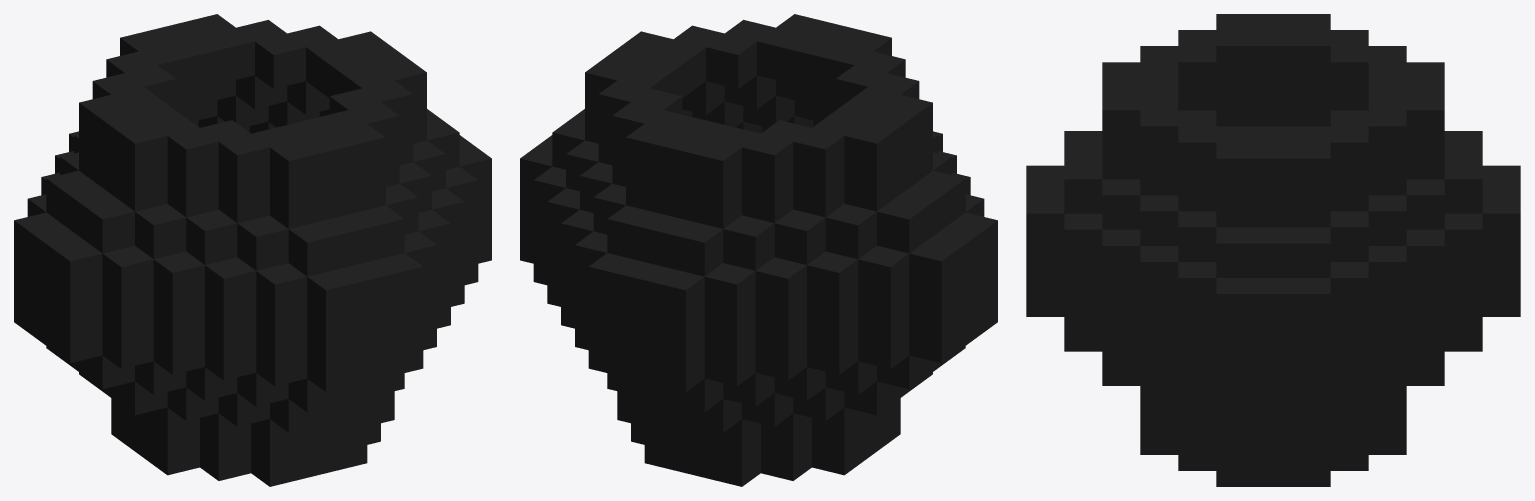
Rendered from chug.obj.
The picture shows the model from 3 angles, left to right: view 1: azimuth 30°, elevation 25°; view 2: azimuth 150°, elevation 25°; view 3: azimuth 270°, elevation 25°; orthographic projection.
Bounding box in the file's own units: 1.3 × 1 × 1.3.
1 material, 1 textured.
